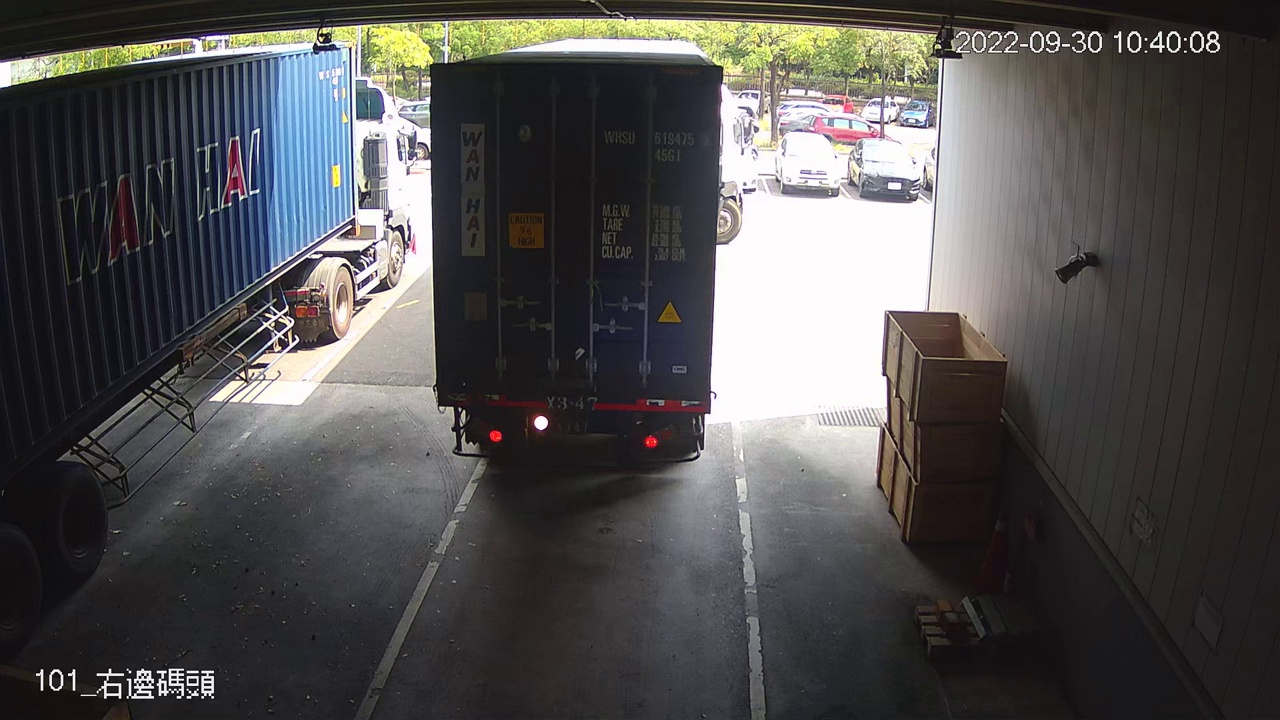container: (599, 123, 713, 169)
